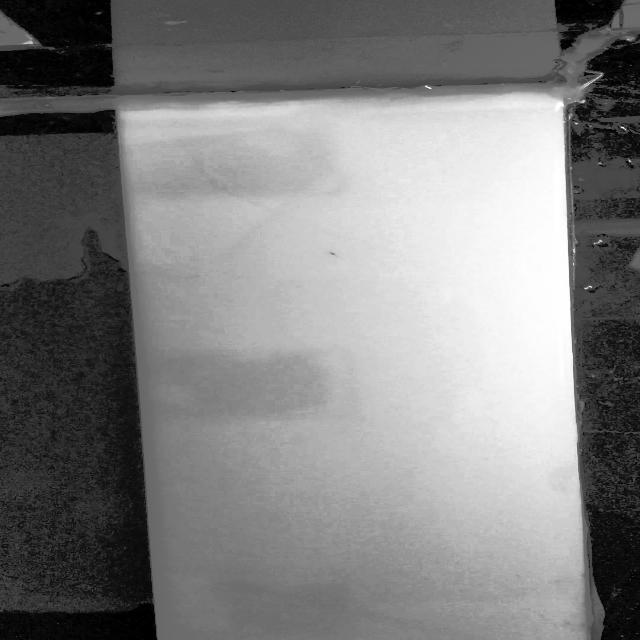shrimp: (310, 245, 362, 262)
